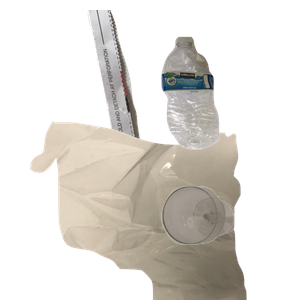glass: (159, 184, 300, 300)
paper: (85, 10, 224, 190)
plastic: (159, 34, 300, 176)
trash: (28, 120, 267, 300)
